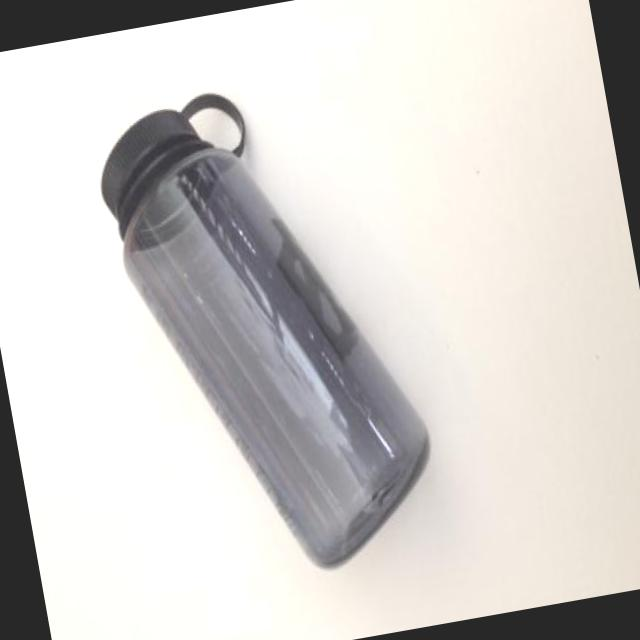Recycle: (87, 62, 450, 596)
